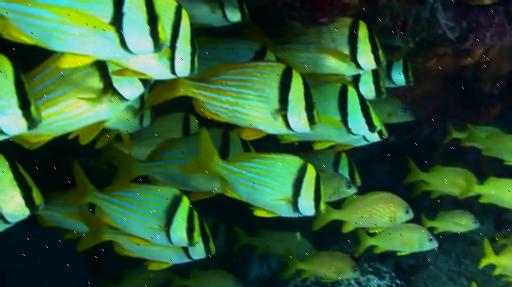Fish: (0, 0, 447, 270), (232, 227, 360, 281), (402, 159, 481, 198), (466, 127, 482, 140), (496, 188, 506, 189)
